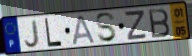A: (71, 14, 97, 46)
B: (147, 7, 172, 39)
J: (24, 19, 41, 49)
L: (44, 17, 64, 48)
S: (95, 12, 119, 44)
Z: (124, 9, 148, 42)
